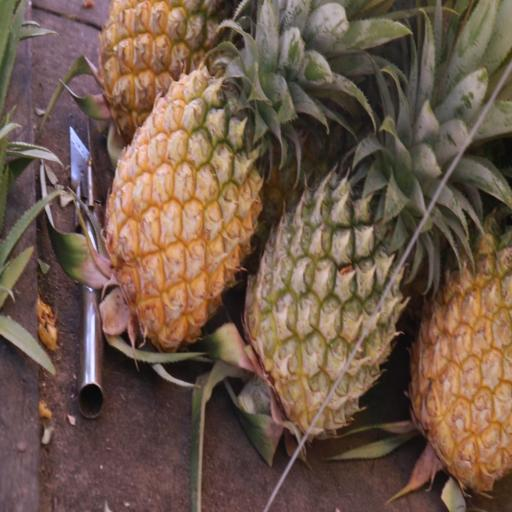Pineapple - v8 v1: (104, 14, 272, 354), (404, 91, 512, 479)
